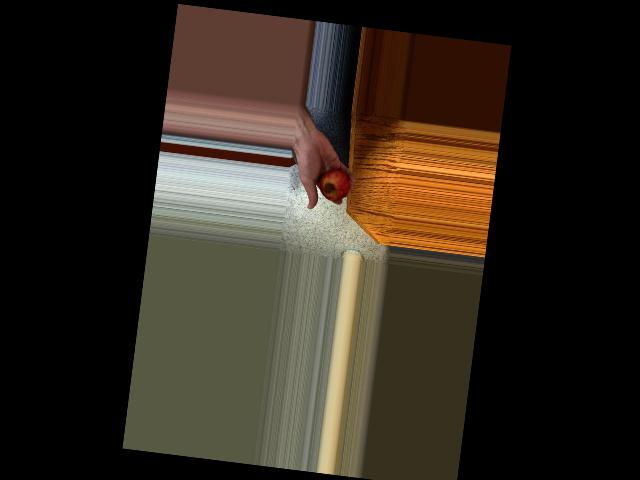apple: (313, 162, 353, 208)
